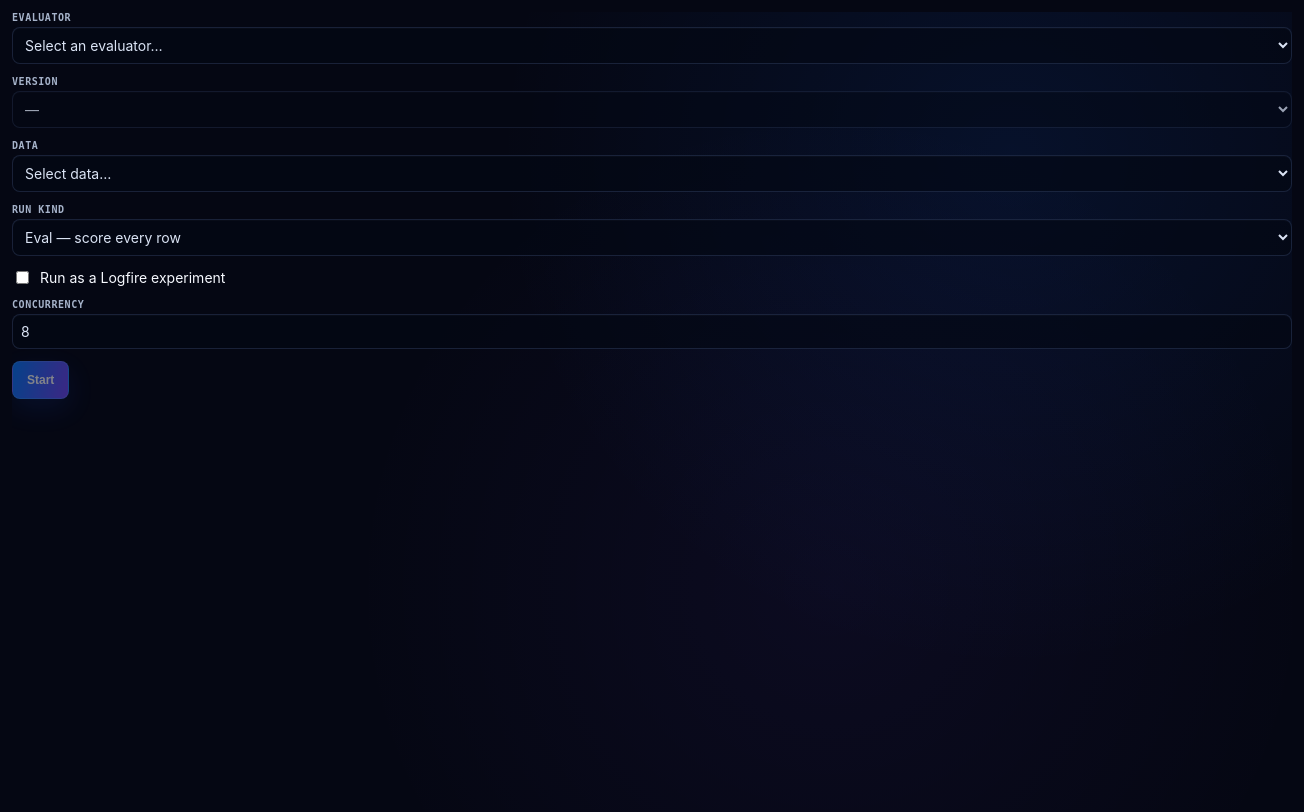
RunLauncher › keeps validation selectable and warns on partial coverage
The image size is (1304, 812).
Select "My evaluator" in the dropdown labelled "Evaluator": (652, 46) [12,27,1292,64]
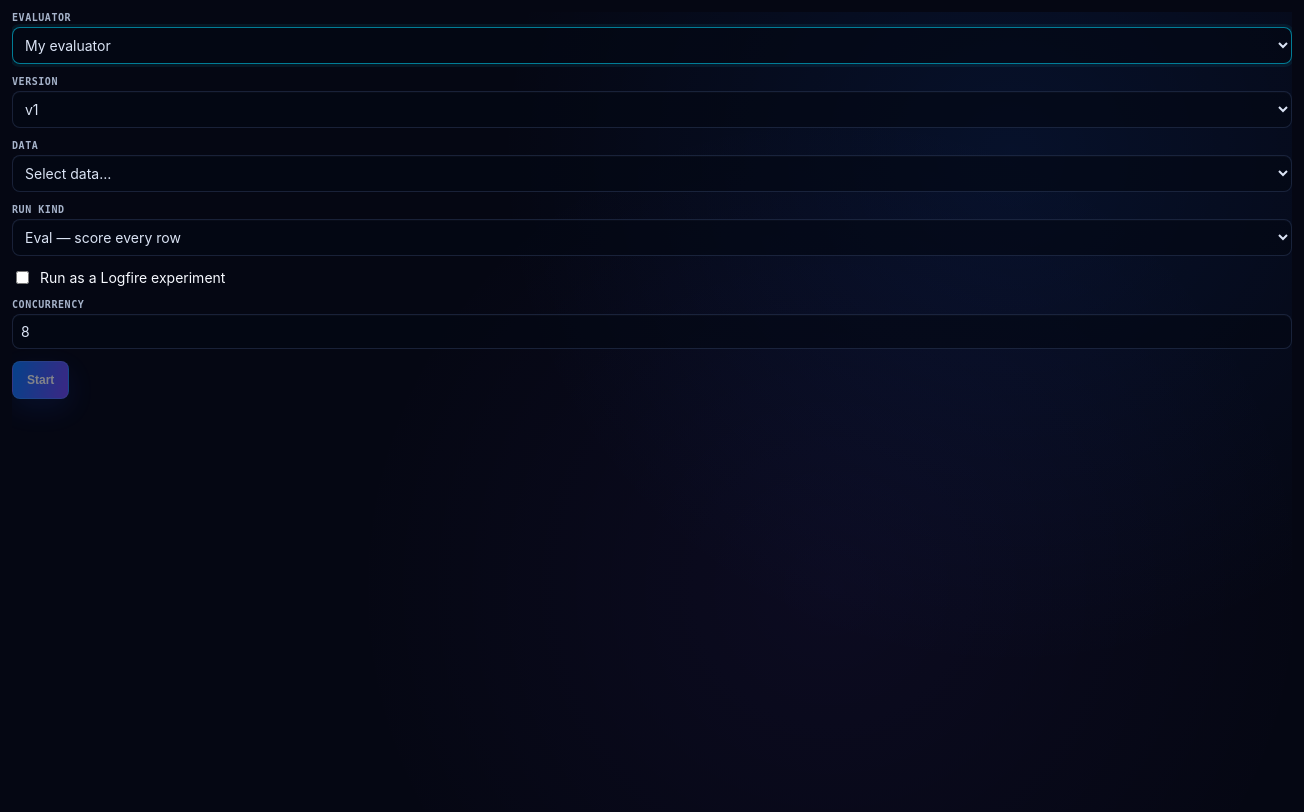
Check: the dropdown labelled "Version" is enabled, box [12,91,1292,128]
Select "My dataset — answer" in the dropdown labelled "Data": (652, 174) [12,155,1292,192]
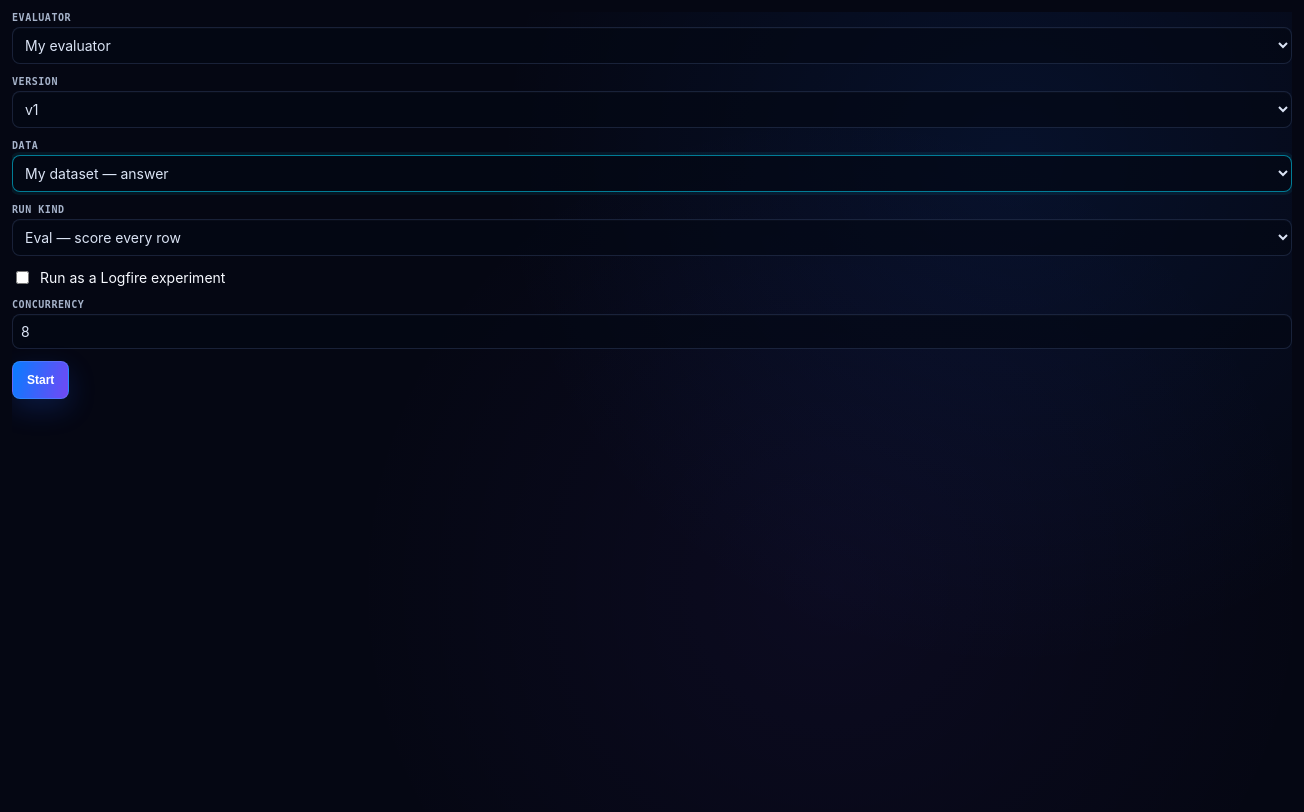
Select "Validation — measure agreement with labels" in the dropdown labelled "Run kind": (652, 238) [12,219,1292,256]
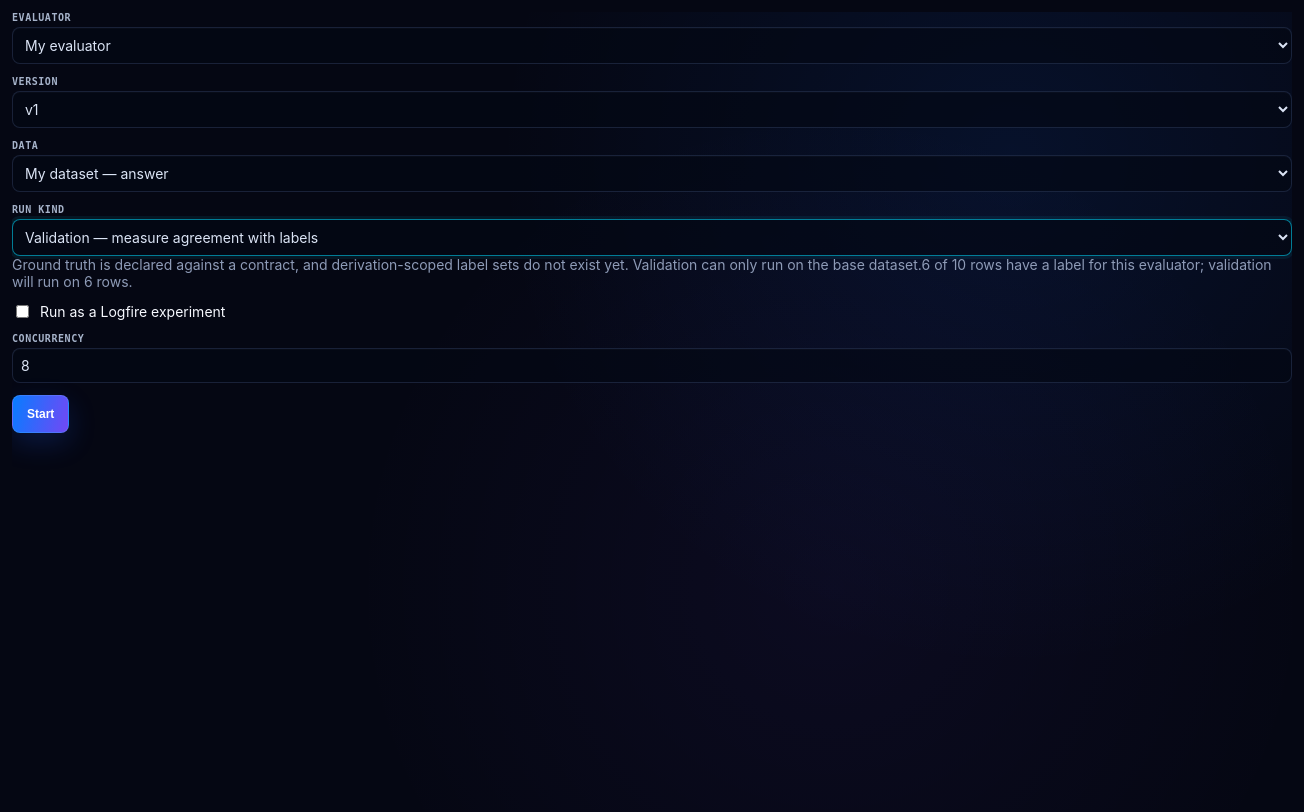
Check: the text "6 of 10 rows" is shown, box [12,256,1272,290]
